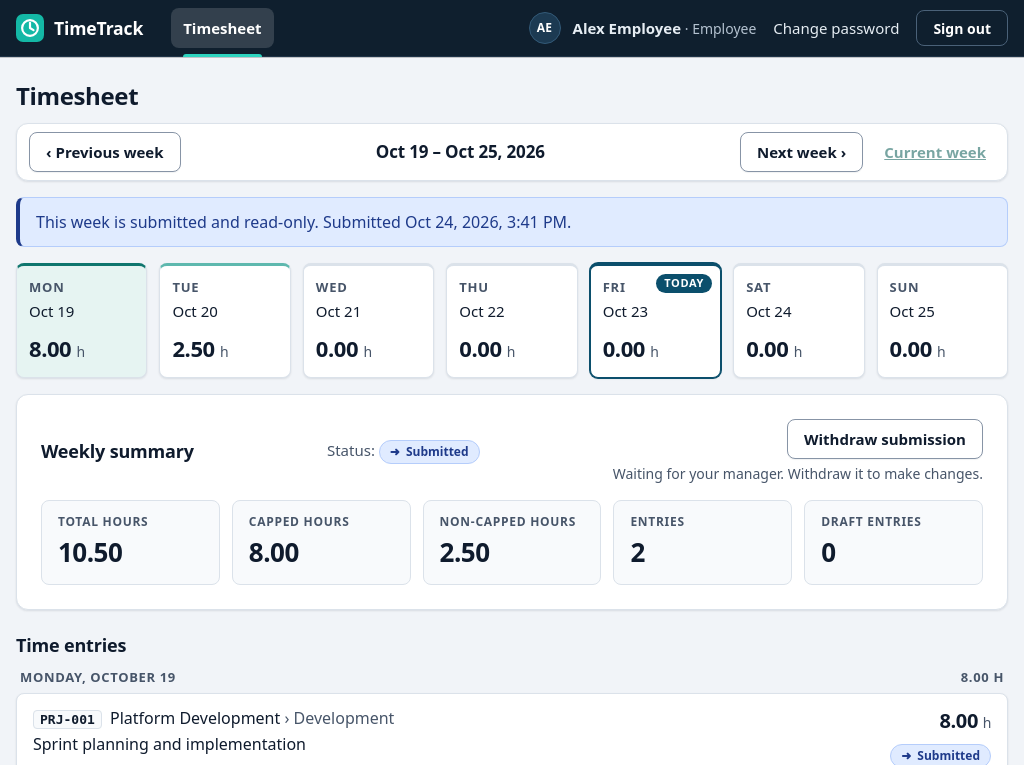
Test case: Withdraw submission dialog › says what happens and puts the safe choice first
Click the button "Withdraw submission". click: (885, 439)
box: [787,419,983,459]
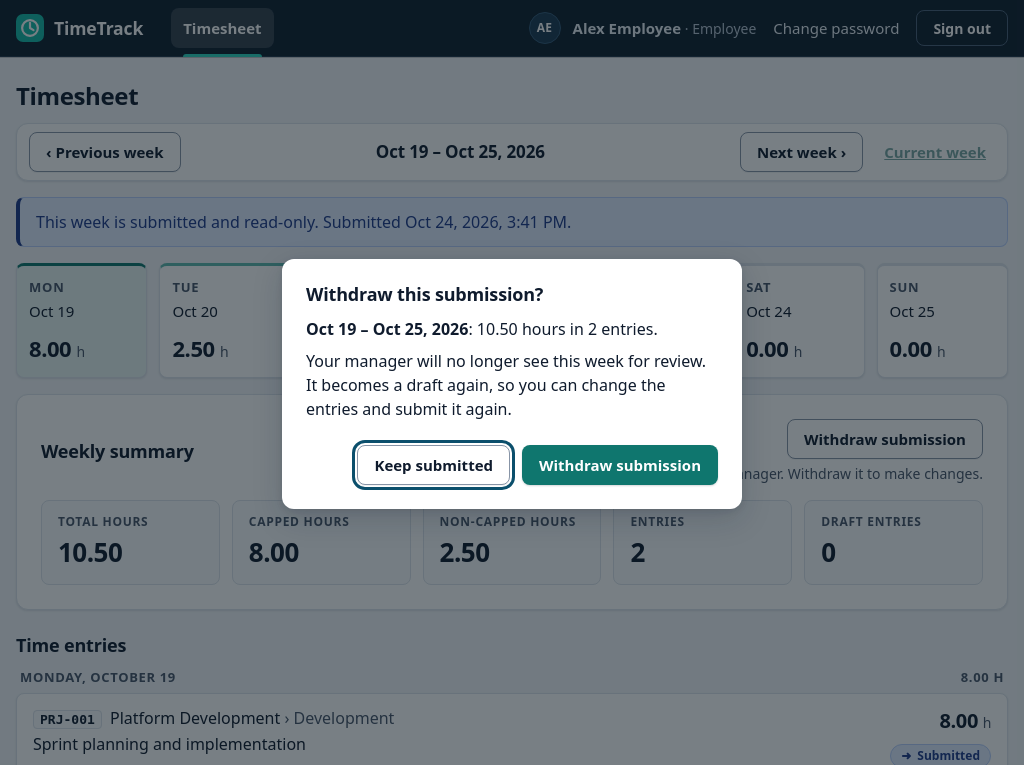
Check: the dialog shows "Oct 19 – Oct 25, 2026", box [306,318,468,340]
Check: the dialog shows "10.50 hours in 2 entries", box [282,259,742,509]
Check: the dialog shows "becomes a draft again", box [306,350,706,420]
